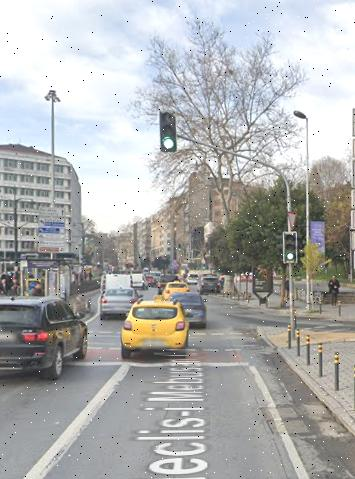greenlight: (157, 107, 181, 156), (280, 229, 300, 264)
